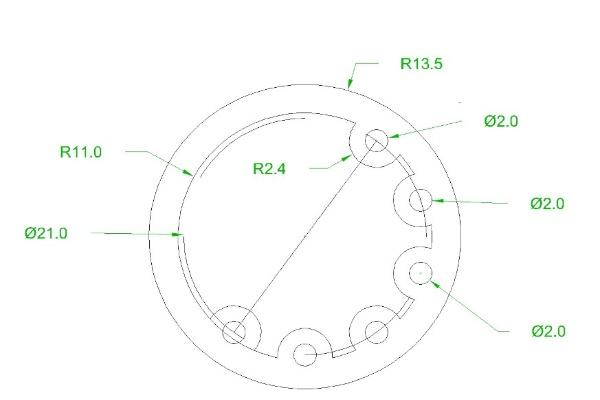dimensions: (18, 216, 74, 247), (52, 140, 112, 163), (525, 315, 571, 342), (396, 50, 447, 74), (480, 107, 522, 132), (528, 190, 568, 214), (250, 158, 292, 180)
